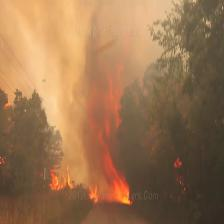fire: (60, 78, 154, 209)
smoke: (0, 0, 159, 111)
